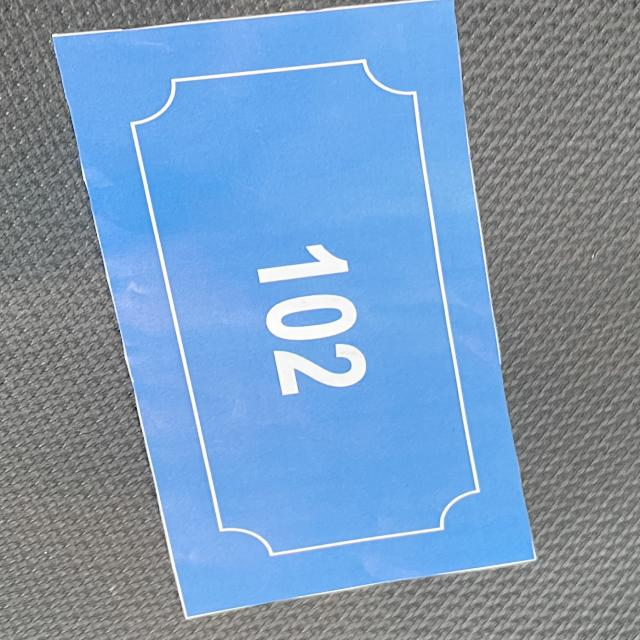Card: (17, 0, 577, 640)
